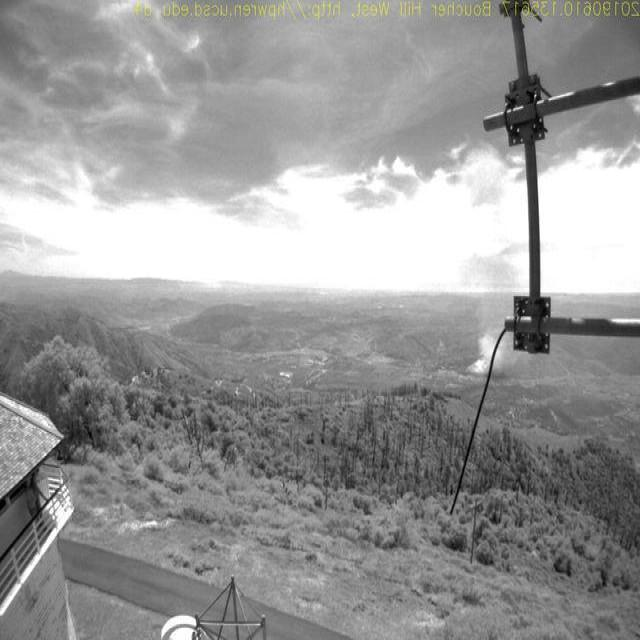Smoke: (462, 238, 522, 378)
